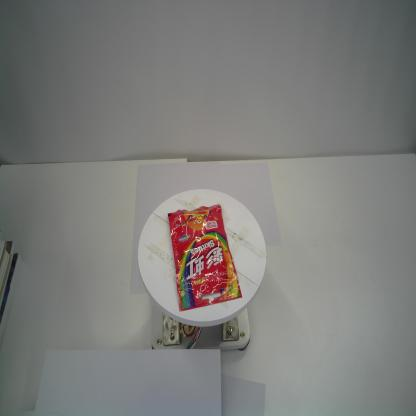Candy: (167, 203, 243, 313)
